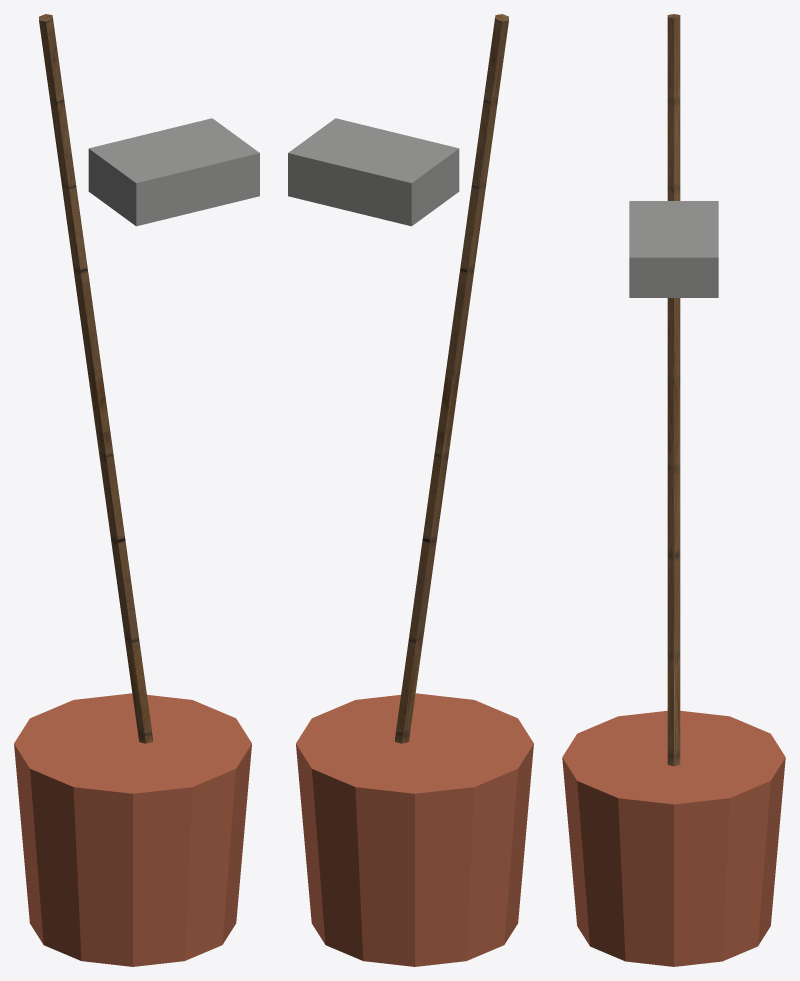
The model's file is balde_e_rodo.glb.
3 views of the same model, side by side, from view 1: azimuth 30°, elevation 25°; view 2: azimuth 150°, elevation 25°; view 3: azimuth 270°, elevation 25° (orthographic). The views are drawn at different scales.
Parts seen in each view (by area): view 1: balde_e_rodo; view 2: balde_e_rodo; view 3: balde_e_rodo.
Boxes of the visible parts, x1=… form: balde_e_rodo: x1=14, y1=14, x2=259, y2=966; balde_e_rodo: x1=288, y1=14, x2=533, y2=966; balde_e_rodo: x1=562, y1=14, x2=785, y2=966.
Bounding box in the file's own units: 0.3 × 1.29 × 0.3.
3 materials, 1 textured.
